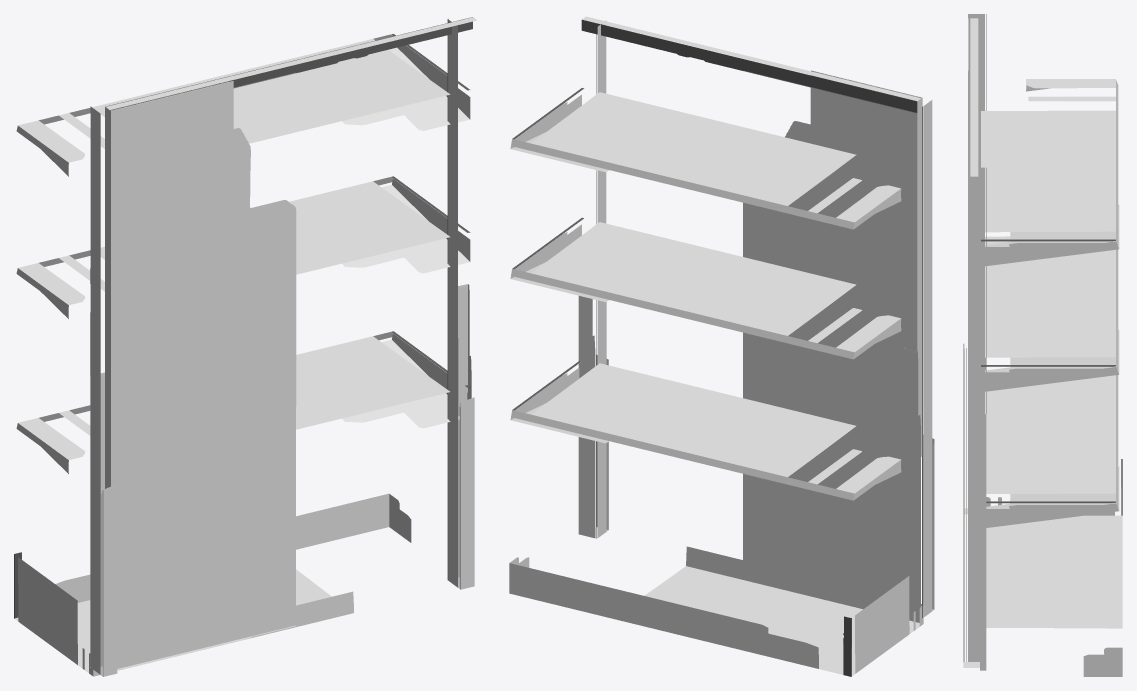
Rendered from SShelf_Wall.fbx.
3 views of the same model, side by side, from view 1: azimuth 30°, elevation 25°; view 2: azimuth 150°, elevation 25°; view 3: azimuth 270°, elevation 25° (orthographic). The views are drawn at different scales.
Visible parts, largest first — view 1: Main, Plate3, Plate2, Plate1, Base, L_Leg, R_Leg; view 2: Main, Base, Plate3, Plate2, Plate1, R_Leg, L_Leg; view 3: Plate3, Plate1, Plate2, Base, L_Leg, Main, R_Leg.
Part boxes in pixels (box(x1,y1,x2,y2)): Main: box(105, 17, 477, 670); Plate3: box(16, 34, 470, 176); Plate2: box(16, 176, 470, 318); Plate1: box(16, 331, 470, 473); Base: box(14, 493, 411, 676); L_Leg: box(447, 19, 474, 589); R_Leg: box(90, 106, 117, 676); Main: box(581, 16, 922, 594); Base: box(509, 546, 923, 676); Plate3: box(510, 88, 901, 229); Plate2: box(510, 217, 901, 359); Plate1: box(510, 361, 901, 500); R_Leg: box(904, 100, 934, 618); L_Leg: box(578, 20, 608, 538); Plate3: box(981, 79, 1119, 266); Plate1: box(985, 375, 1119, 527); Plate2: box(981, 236, 1119, 392); Base: box(986, 459, 1122, 676); L_Leg: box(963, 167, 986, 670); Main: box(968, 18, 978, 176); R_Leg: box(963, 14, 986, 514).
Size of the model in its own units: 1.1 by 1.58 by 0.4546.
